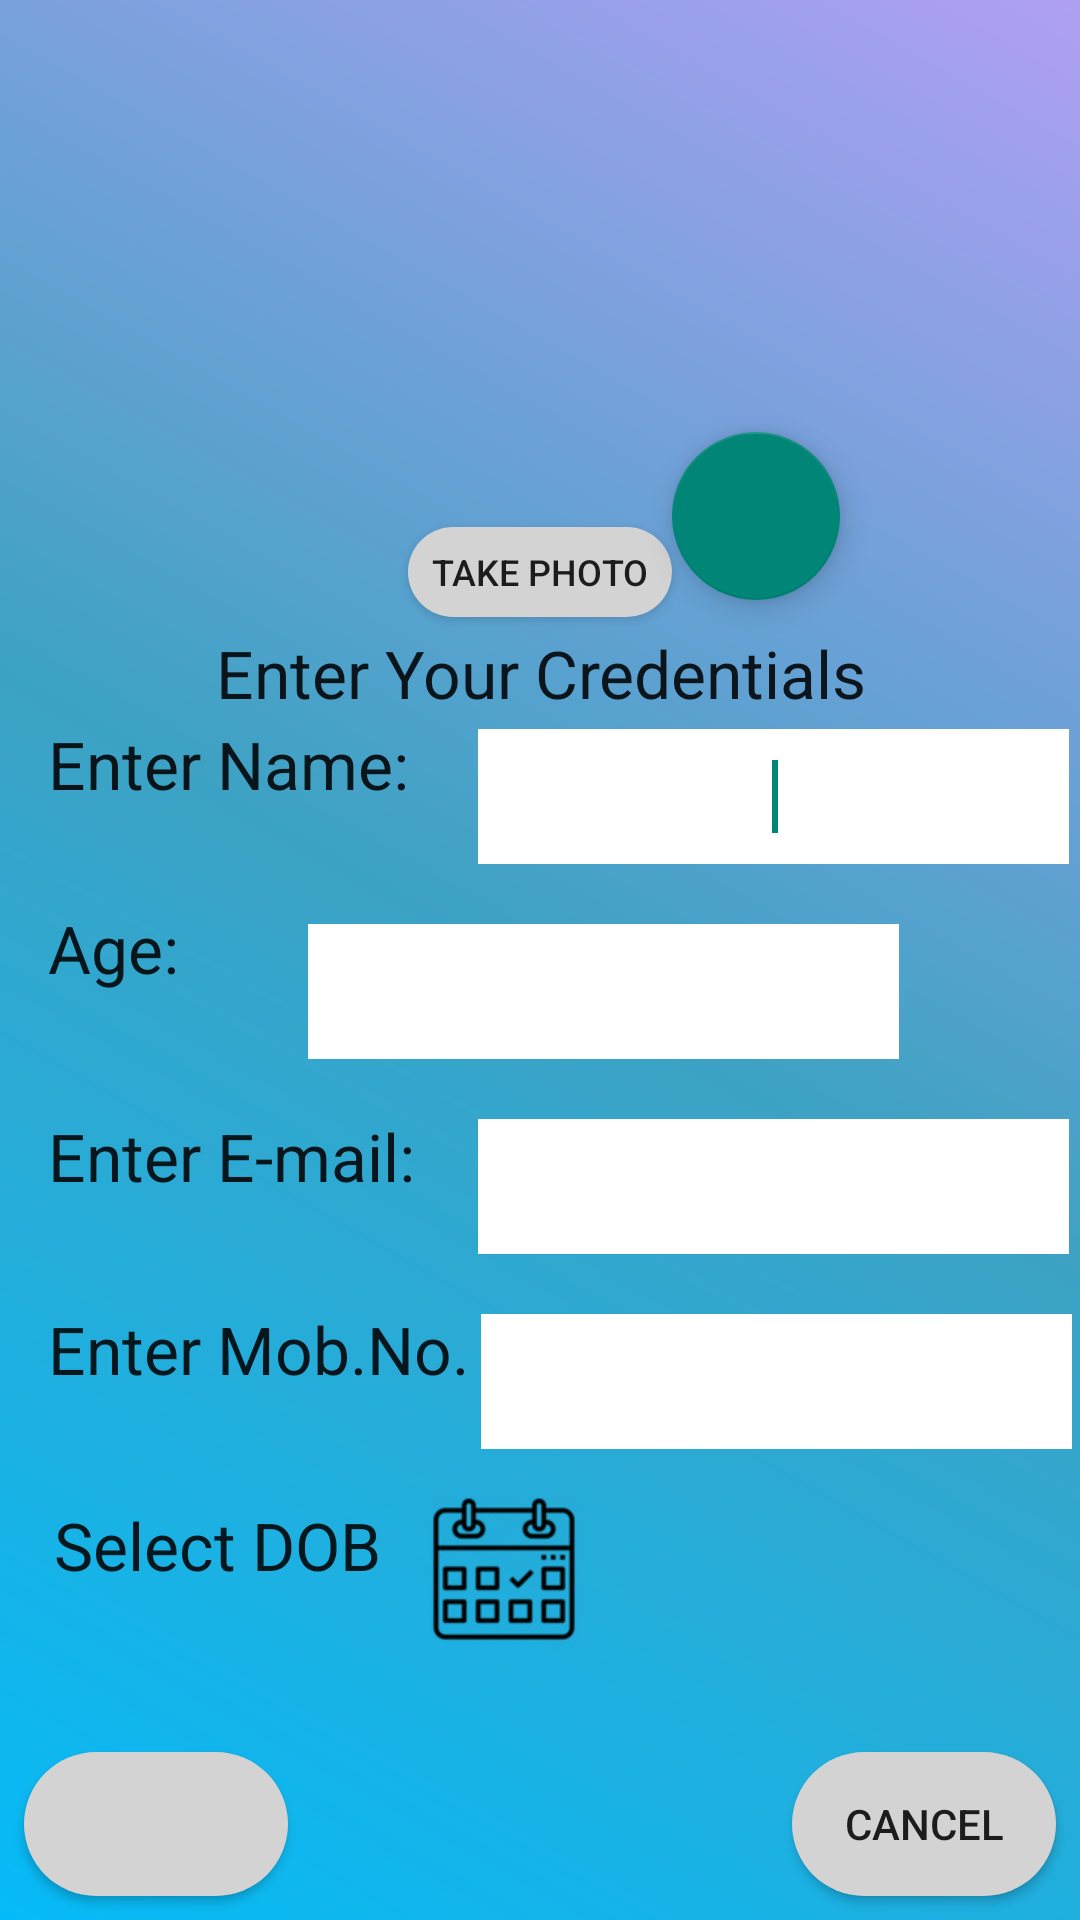

Named icons in this screenshot (1080×1920) and their bounding boxes, (left=x1, top=y1, right=x2, bottom=y2):
Calendar Icon: (left=433, top=1498, right=575, bottom=1640)
